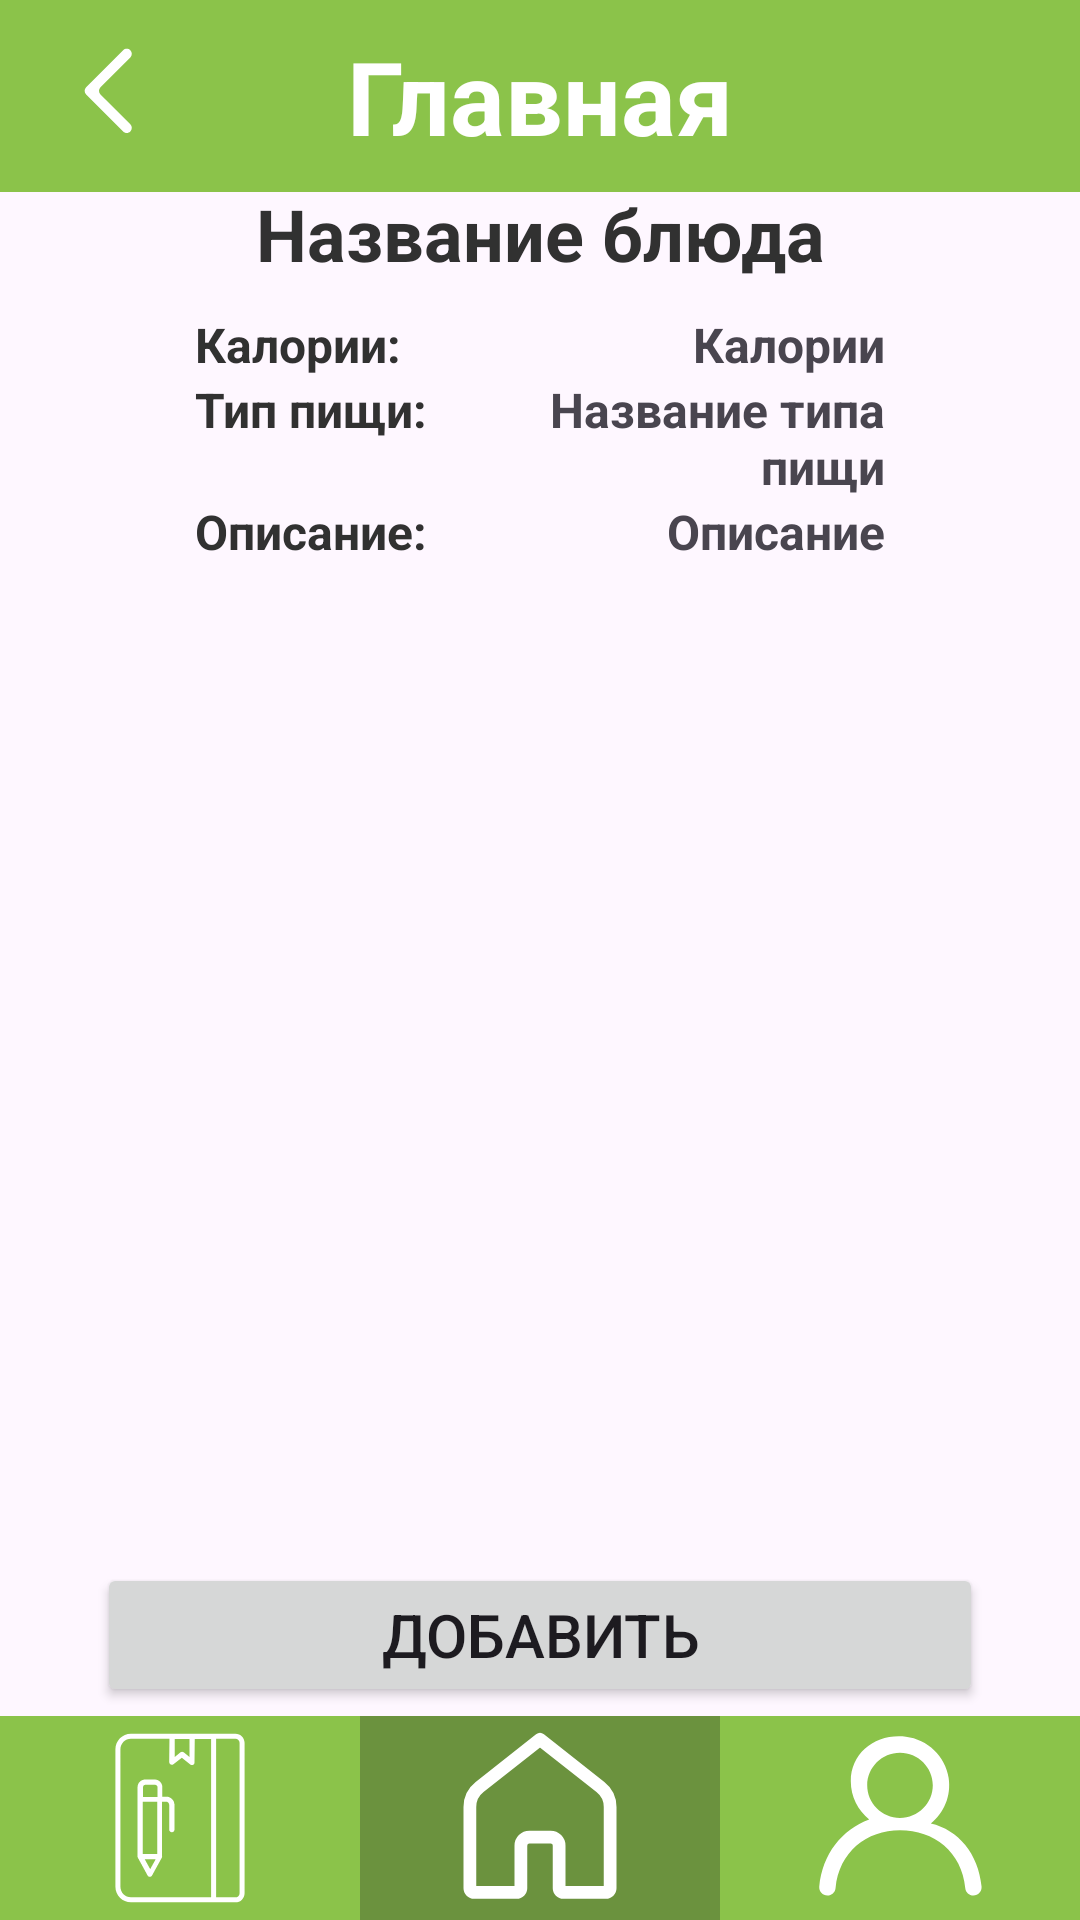

Point at icon controls on the screen. Image size 1080x1920, points as point (x, y).
back: point (108, 90)
diary: point (180, 1818)
home: point (540, 1818)
profile: point (900, 1818)
